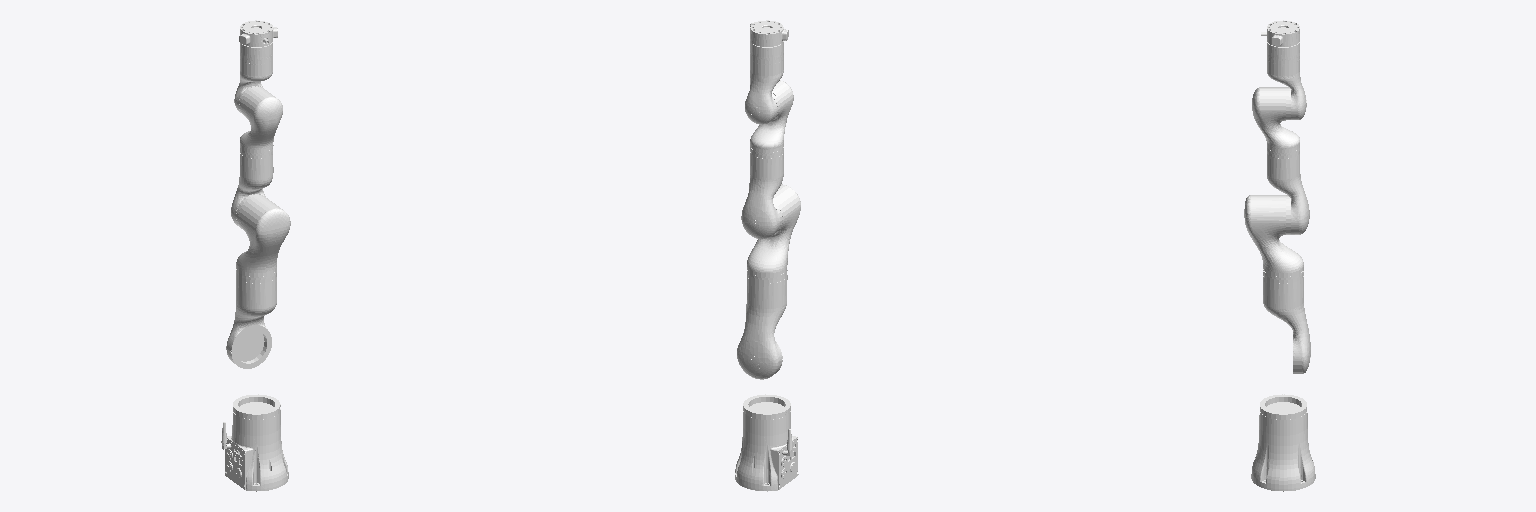
The robot description file, URDF, robot "rm_75_description":
<?xml version="1.0" encoding="utf-8"?>
<robot
  name="rm_75_description">
  <link
    name="base_link">
    <inertial>
      <origin
        xyz="0.000433268851866144 3.54527840972405E-05 0.0599427623574736"
        rpy="0 0 0" />
      <mass
        value="0.841071174772543" />
      <inertia
        ixx="0.00172611149818605"
        ixy="2.52724703312125E-06"
        ixz="3.67689528877993E-05"
        iyy="0.00170987425756066"
        iyz="-1.68009023667311E-06"
        izz="0.000904023916742301" />
    </inertial>
    <visual>
      <origin
        xyz="0 0 0"
        rpy="0 0 0" />
      <geometry>
        <mesh
          filename="package://rm_75_description/meshes/base_link.STL" />
      </geometry>
      <material
        name="">
        <color
          rgba="1 1 1 1" />
      </material>
    </visual>
    <collision>
      <origin
        xyz="0 0 0"
        rpy="0 0 0" />
      <geometry>
        <mesh
          filename="package://rm_75_description/meshes/base_link.STL" />
      </geometry>
    </collision>
  </link>
  <link
    name="Link1">
    <inertial>
      <origin
        xyz="0.0251854224372461 1.19160585601655E-08 -0.021107996993288"
        rpy="0 0 0" />
      <mass
        value="0.593563458735581" />
      <inertia
        ixx="0.000561352422092522"
        ixy="9.8019294192418E-09"
        ixz="-0.000211217278563478"
        iyy="0.00126614121202124"
        iyz="1.29510293158304E-08"
        izz="0.0011816817861243" />
    </inertial>
    <visual>
      <origin
        xyz="0 0 0"
        rpy="0 0 0" />
      <geometry>
        <mesh
          filename="package://rm_75_description/meshes/link1.STL" />
      </geometry>
      <material
        name="">
        <color
          rgba="1 1 1 1" />
      </material>
    </visual>
    <collision>
      <origin
        xyz="0 0 0"
        rpy="0 0 0" />
      <geometry>
        <mesh
          filename="package://rm_75_description/meshes/link1.STL" />
      </geometry>
    </collision>
  </link>
  <joint
    name="joint1"
    type="revolute">
    <origin
      xyz="0 0 0.2405"
      rpy="-1.5708 1.5708 0" />
    <parent
      link="base_link" />
    <child
      link="Link1" />
    <axis
      xyz="-1 0 0" />
    <limit
      lower="-3.1"
      upper="3.1"
      effort="60"
      velocity="3.14" />
  </joint>
  <link
    name="Link2">
    <inertial>
      <origin
        xyz="2.72859133252335E-07 0.011077753037361 0.0761295106490881"
        rpy="0 0 0" />
      <mass
        value="0.432849770310974" />
      <inertia
        ixx="0.00125838173873093"
        ixy="5.63146579602116E-09"
        ixz="1.33486683063366E-09"
        iyy="0.00122245448121472"
        iyz="0.000279003475762058"
        izz="0.000317474184276672" />
    </inertial>
    <visual>
      <origin
        xyz="0 0 0"
        rpy="0 0 0" />
      <geometry>
        <mesh
          filename="package://rm_75_description/meshes/link2.STL" />
      </geometry>
      <material
        name="">
        <color
          rgba="1 1 1 1" />
      </material>
    </visual>
    <collision>
      <origin
        xyz="0 0 0"
        rpy="0 0 0" />
      <geometry>
        <mesh
          filename="package://rm_75_description/meshes/link2.STL" />
      </geometry>
    </collision>
  </link>
  <joint
    name="joint2"
    type="revolute">
    <origin
      xyz="0 0 0"
      rpy="1.5708 0 -1.5708" />
    <parent
      link="Link1" />
    <child
      link="Link2" />
    <axis
      xyz="0 1 0" />
    <limit
      lower="-2.268"
      upper="2.268"
      effort="60"
      velocity="3.14" />
  </joint>
  <link
    name="Link3">
    <inertial>
      <origin
        xyz="6.84676164566044E-07 0.0273475408308154 -0.0235440119707943"
        rpy="0 0 0" />
      <mass
        value="0.431325495678459" />
      <inertia
        ixx="0.000794332771462568"
        ixy="1.03353218375171E-08"
        ixz="-2.32798826854953E-09"
        iyy="0.000315065343266245"
        iyz="-0.000142620540462618"
        izz="0.000730371131605455" />
    </inertial>
    <visual>
      <origin
        xyz="0 0 0"
        rpy="0 0 0" />
      <geometry>
        <mesh
          filename="package://rm_75_description/meshes/link3.STL" />
      </geometry>
      <material
        name="">
        <color
          rgba="1 1 1 1" />
      </material>
    </visual>
    <collision>
      <origin
        xyz="0 0 0"
        rpy="0 0 0" />
      <geometry>
        <mesh
          filename="package://rm_75_description/meshes/link3.STL" />
      </geometry>
    </collision>
  </link>
  <joint
    name="joint3"
    type="revolute">
    <origin
      xyz="0 0 0.256"
      rpy="-1.5708 0 0" />
    <parent
      link="Link2" />
    <child
      link="Link3" />
    <axis
      xyz="0 -1 0" />
    <limit
      lower="-3.1"
      upper="3.1"
      effort="30"
      velocity="3.92" />
  </joint>
  <link
    name="Link4">
    <inertial>
      <origin
        xyz="5.05312670298932E-06 0.0105690692118619 0.0595925663703773"
        rpy="0 0 0" />
      <mass
        value="0.289633681619295" />
      <inertia
        ixx="0.000637371004484591"
        ixy="-3.86643270900744E-08"
        ixz="7.05261290886955E-08"
        iyy="0.000614178164759844"
        iyz="0.000144610359942128"
        izz="0.000156483880946498" />
    </inertial>
    <visual>
      <origin
        xyz="0 0 0"
        rpy="0 0 0" />
      <geometry>
        <mesh
          filename="package://rm_75_description/meshes/link4.STL" />
      </geometry>
      <material
        name="">
        <color
          rgba="1 1 1 1" />
      </material>
    </visual>
    <collision>
      <origin
        xyz="0 0 0"
        rpy="0 0 0" />
      <geometry>
        <mesh
          filename="package://rm_75_description/meshes/link4.STL" />
      </geometry>
    </collision>
  </link>
  <joint
    name="joint4"
    type="revolute">
    <origin
      xyz="0 0 0"
      rpy="1.5708 0 0" />
    <parent
      link="Link3" />
    <child
      link="Link4" />
    <axis
      xyz="0 1 0" />
    <limit
      lower="-2.355"
      upper="2.355"
      effort="30"
      velocity="3.92" />
  </joint>
  <link
    name="Link5">
    <inertial>
      <origin
        xyz="1.1551661767744E-06 0.0215394748352686 -0.0180424468598241"
        rpy="0 0 0" />
      <mass
        value="0.239419768320061" />
      <inertia
        ixx="0.000285938919722783"
        ixy="2.21994116852616E-09"
        ixz="3.07101358617598E-09"
        iyy="0.00011988808279186"
        iyz="-4.4236583260078E-05"
        izz="0.000262727540304212" />
    </inertial>
    <visual>
      <origin
        xyz="0 0 0"
        rpy="0 0 0" />
      <geometry>
        <mesh
          filename="package://rm_75_description/meshes/link5.STL" />
      </geometry>
      <material
        name="">
        <color
          rgba="1 1 1 1" />
      </material>
    </visual>
    <collision>
      <origin
        xyz="0 0 0"
        rpy="0 0 0" />
      <geometry>
        <mesh
          filename="package://rm_75_description/meshes/link5.STL" />
      </geometry>
    </collision>
  </link>
  <joint
    name="joint5"
    type="revolute">
    <origin
      xyz="0 0 0.21"
      rpy="-1.5708 0 0" />
    <parent
      link="Link4" />
    <child
      link="Link5" />
    <axis
      xyz="0 -1 0" />
    <limit
      lower="-3.1"
      upper="3.1"
      effort="10"
      velocity="3.92" />
  </joint>
  <link
    name="Link6">
    <inertial>
      <origin
        xyz="3.19794787018954E-06 0.00736804250989373 0.0593808368101291"
        rpy="0 0 0" />
      <mass
        value="0.218799761431682" />
      <inertia
        ixx="0.000350540363914436"
        ixy="-1.7705645712277E-08"
        ixz="3.41781620449632E-08"
        iyy="0.000334482418423991"
        iyz="7.82431228462317E-05"
        izz="0.000104927867487584" />
    </inertial>
    <visual>
      <origin
        xyz="0 0 0"
        rpy="0 0 0" />
      <geometry>
        <mesh
          filename="package://rm_75_description/meshes/link6.STL" />
      </geometry>
      <material
        name="">
        <color
          rgba="1 1 1 1" />
      </material>
    </visual>
    <collision>
      <origin
        xyz="0 0 0"
        rpy="0 0 0" />
      <geometry>
        <mesh
          filename="package://rm_75_description/meshes/link6.STL" />
      </geometry>
    </collision>
  </link>
  <joint
    name="joint6"
    type="revolute">
    <origin
      xyz="0 0 0"
      rpy="1.5708 0 0" />
    <parent
      link="Link5" />
    <child
      link="Link6" />
    <axis
      xyz="0 1 0" />
    <limit
      lower="-2.233"
      upper="2.233"
      effort="10"
      velocity="3.92" />
  </joint>
  <link
    name="Link7">
    <inertial>
      <origin
        xyz="0.000714238382876259 -0.000396711987952758 -0.0126723660946126"
        rpy="0 0 0" />
      <mass
        value="0.0649018034311231" />
      <inertia
        ixx="2.02766547502765E-05"
        ixy="-1.32505200276848E-06"
        ixz="-2.58450915224912E-08"
        iyy="1.87986725225022E-05"
        iyz="3.39471452123283E-09"
        izz="3.17885459163081E-05" />
    </inertial>
    <visual>
      <origin
        xyz="0 0 0"
        rpy="0 0 0" />
      <geometry>
        <mesh
          filename="package://rm_75_description/meshes/link7.STL" />
      </geometry>
      <material
        name="">
        <color
          rgba="1 1 1 1" />
      </material>
    </visual>
    <collision>
      <origin
        xyz="0 0 0"
        rpy="0 0 0" />
      <geometry>
        <mesh
          filename="package://rm_75_description/meshes/link7.STL" />
      </geometry>
    </collision>
  </link>
  <joint
    name="joint7"
    type="revolute">
    <origin
      xyz="0 0 0.144"
      rpy="0 0 0" />
    <parent
      link="Link6" />
    <child
      link="Link7" />
    <axis
      xyz="0 0 1" />
    <limit
      lower="-6.28"
      upper="6.28"
      effort="10"
      velocity="3.92" />
  </joint>
</robot>

--- Render facts (derived) ---
The picture shows the robot from 3 angles, left to right: view 1: azimuth 30°, elevation 25°; view 2: azimuth 150°, elevation 25°; view 3: azimuth 270°, elevation 25°; orthographic projection.
Model rm_75_description with 8 links and 7 joints (7 revolute), rooted at base_link, posed every joint at zero.
Links seen in each view (by area): view 1: base_link, Link2, Link3, Link5, Link4, Link7, Link6; view 2: base_link, Link2, Link4, Link3, Link6, Link5, Link7; view 3: base_link, Link3, Link2, Link5, Link4, Link6, Link7.
Boxes of the visible links, <box> form: base_link: <box>221,394,288,491</box>; Link2: <box>226,271,276,368</box>; Link3: <box>236,194,290,277</box>; Link5: <box>239,86,282,153</box>; Link4: <box>231,149,273,228</box>; Link7: <box>239,20,277,64</box>; Link6: <box>234,46,272,112</box>; base_link: <box>735,394,798,491</box>; Link2: <box>737,270,787,379</box>; Link4: <box>741,148,783,238</box>; Link3: <box>747,184,800,277</box>; Link6: <box>745,48,783,124</box>; Link5: <box>750,80,793,153</box>; Link7: <box>750,20,788,64</box>; base_link: <box>1251,394,1315,491</box>; Link3: <box>1244,195,1303,277</box>; Link2: <box>1263,271,1310,373</box>; Link5: <box>1252,87,1299,153</box>; Link4: <box>1267,149,1309,234</box>; Link6: <box>1267,48,1306,119</box>; Link7: <box>1261,20,1299,64</box>.
Bounding box of the posed robot: 0.1143 × 0.122 × 0.8505 m (x, y, z).
7 mesh visuals loaded from 8 distinct referenced files (7 binary STL); not drawn: 1 (reference not matched to a file when rendering).
